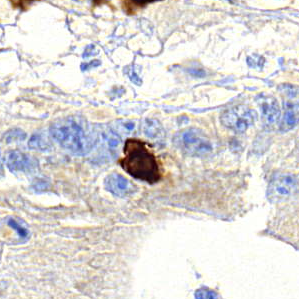Lymphocyte: (119, 137, 166, 185)
